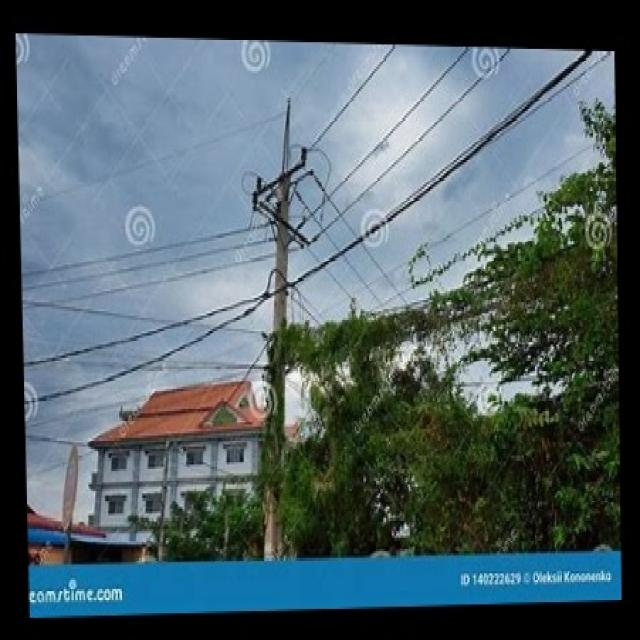critical vegetation: (286, 256, 619, 404)
